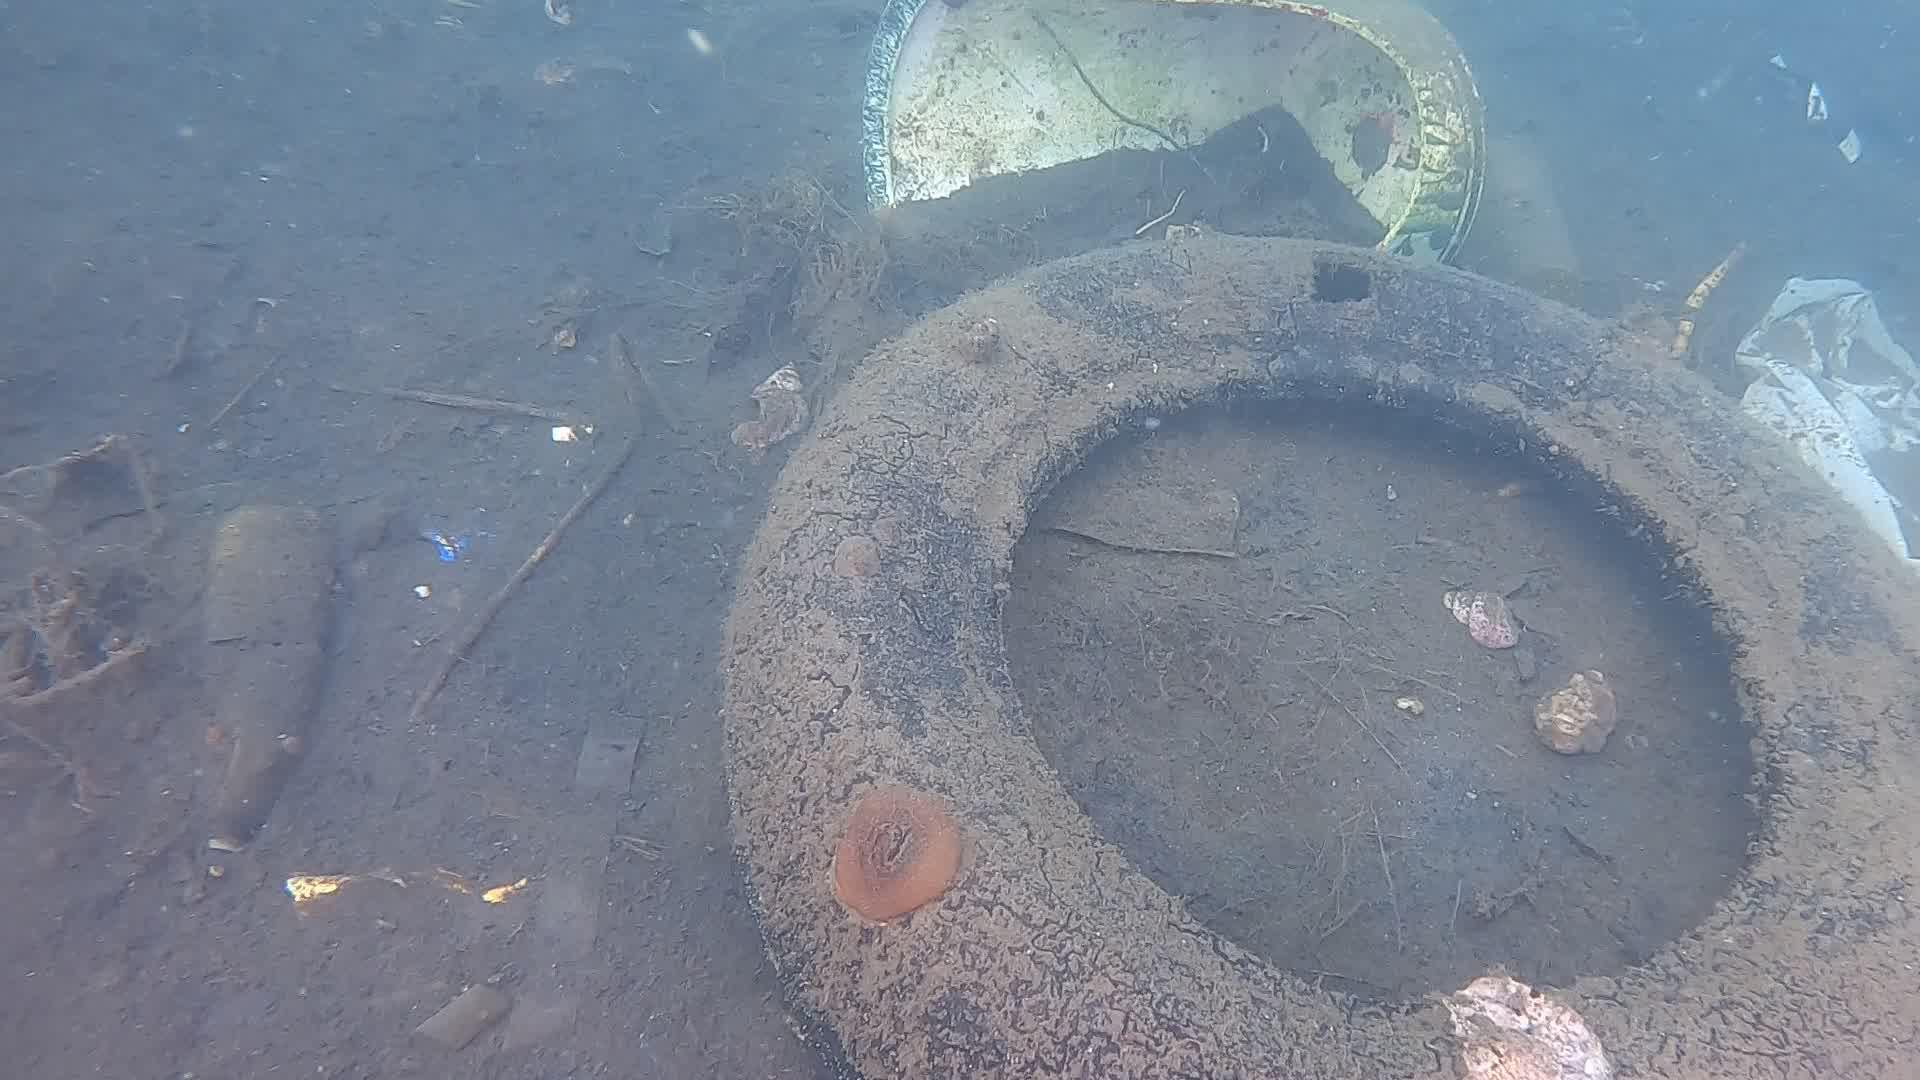tire: (715, 231, 1920, 1080)
